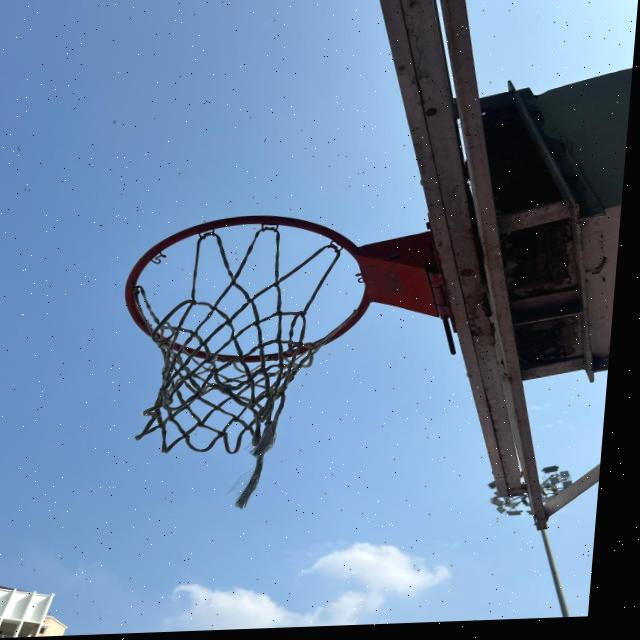hoop: (100, 219, 414, 471)
